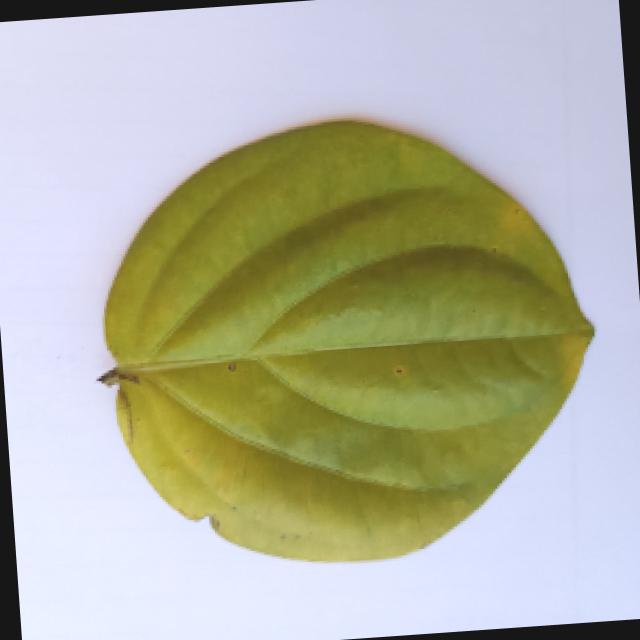slow-decline: (54, 98, 625, 597)
